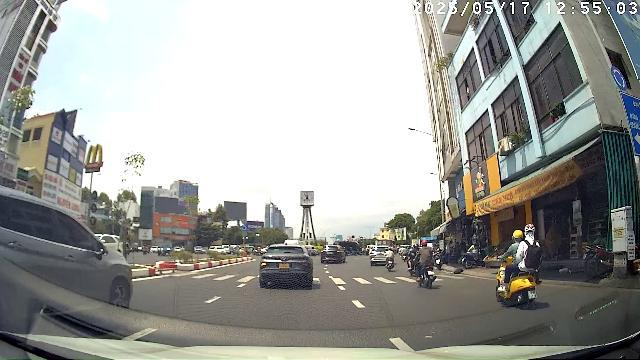303-noi-giao-nhau-chay-theo-vong-xuyen: (611, 65, 628, 91)
